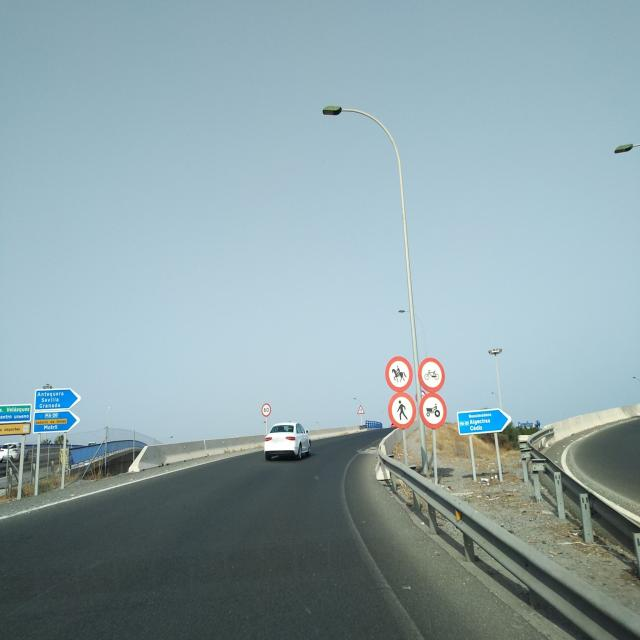car: (264, 422, 312, 461)
